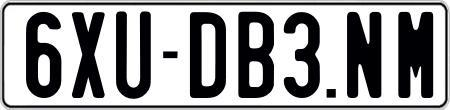3: (281, 11, 323, 103)
6: (26, 11, 67, 97)
B: (236, 9, 277, 97)
D: (190, 11, 230, 99)
M: (395, 10, 429, 98)
N: (346, 11, 381, 102)
U: (115, 8, 155, 102)
X: (69, 12, 107, 98)
